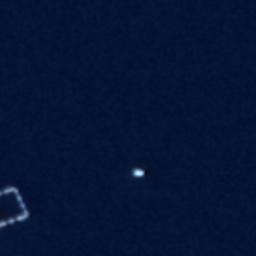square_solid: (1, 181, 36, 231)
